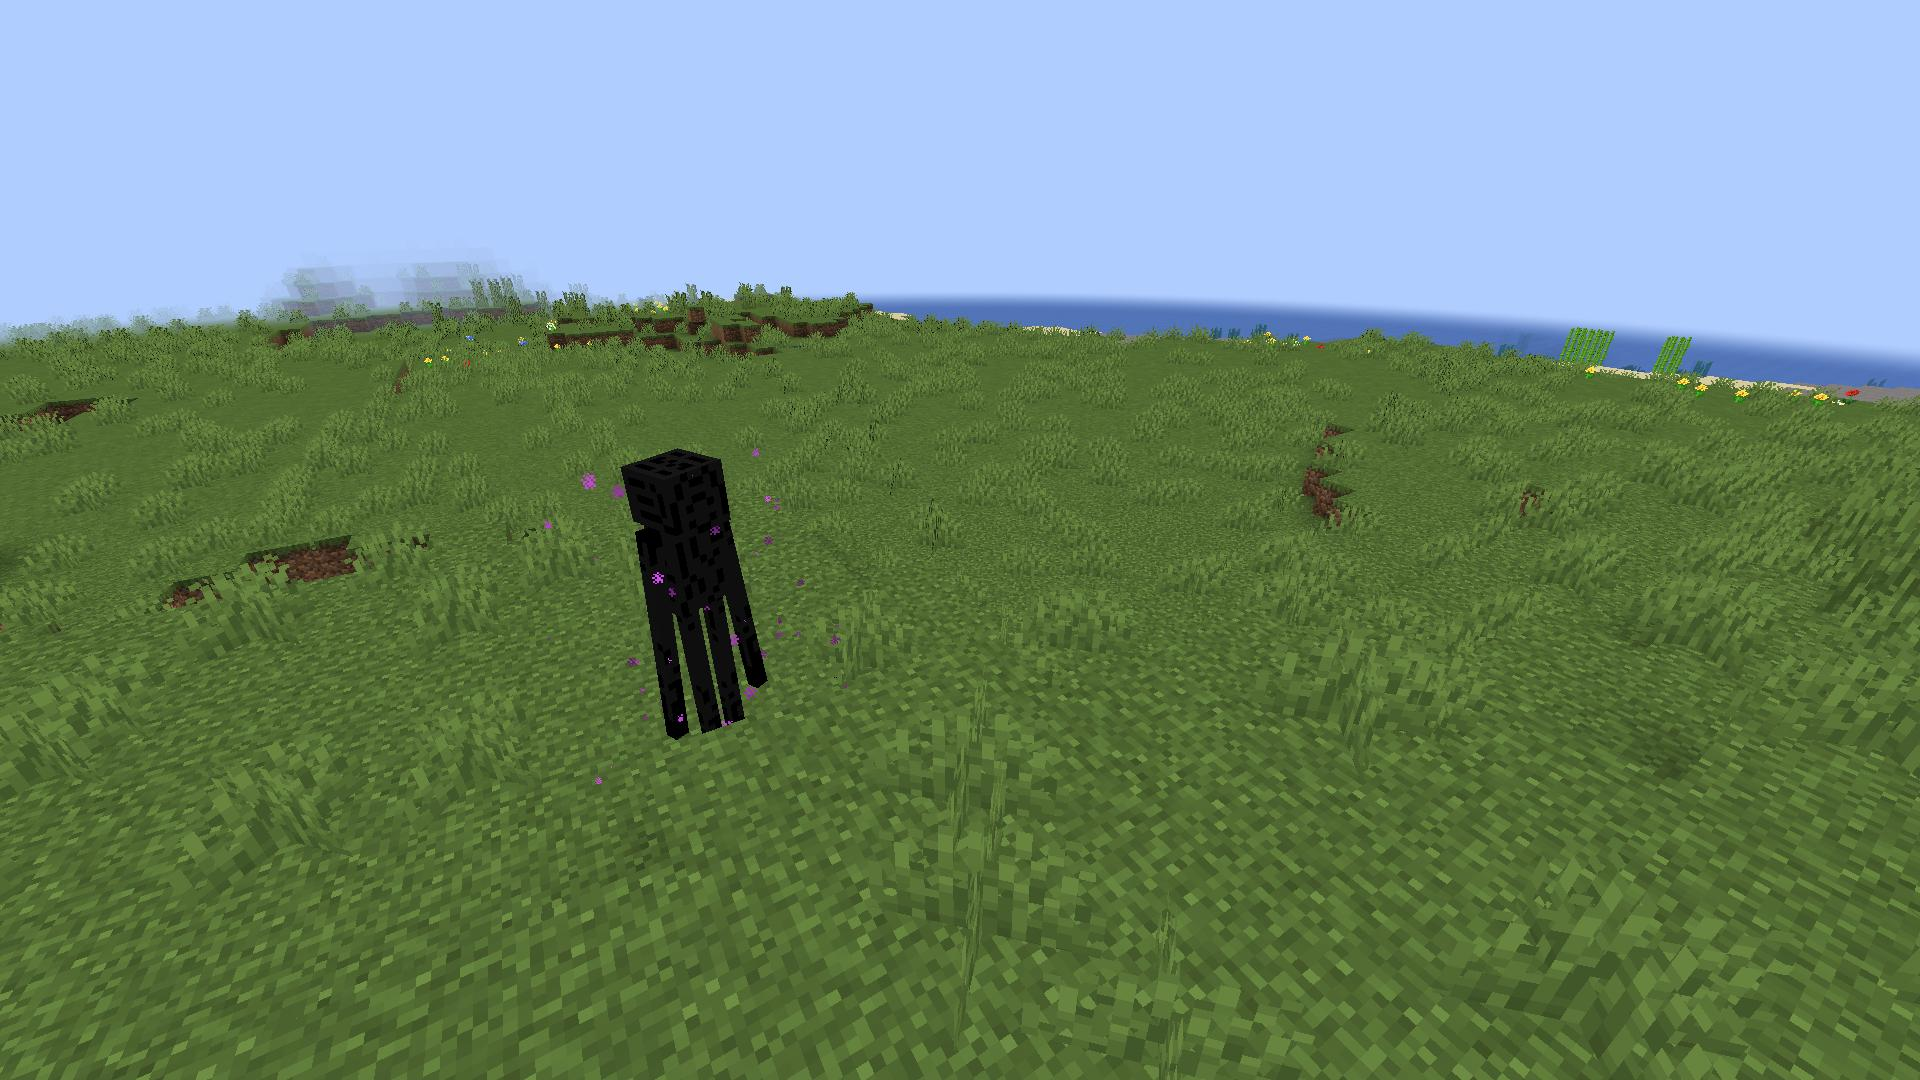enderman: (615, 440, 787, 752)
